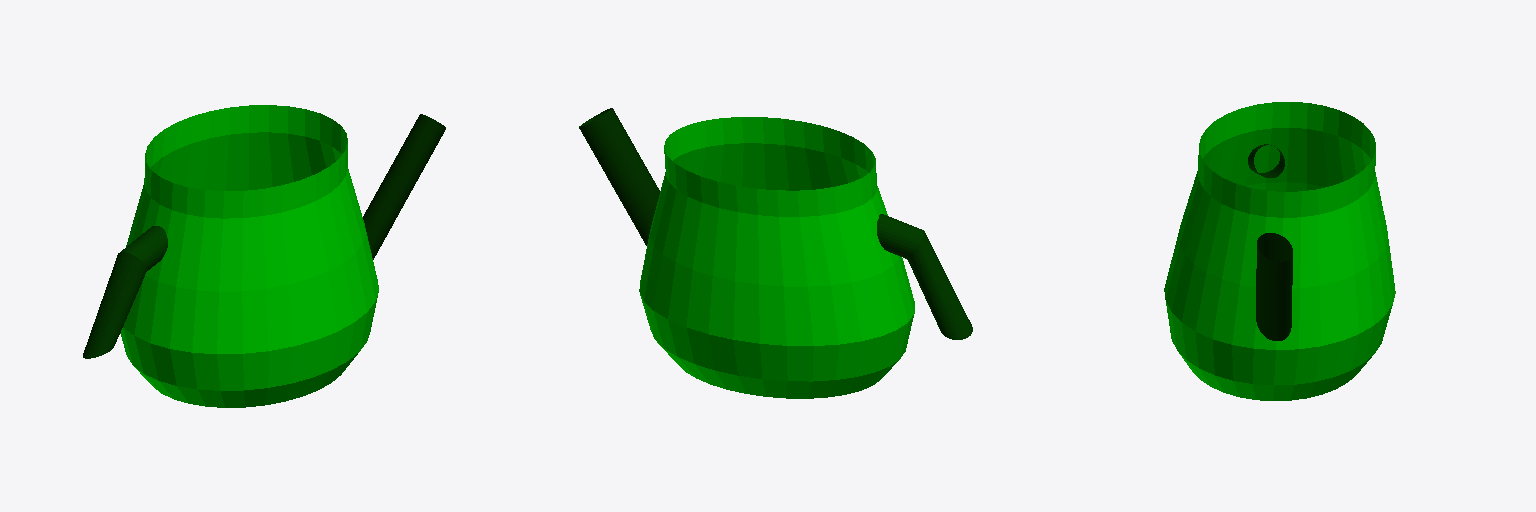
The model's file is wateringcan.obj.
The picture shows the model from 3 angles: view 1: azimuth 30°, elevation 25°; view 2: azimuth 150°, elevation 25°; view 3: azimuth 270°, elevation 25°; orthographic projection.
Visible parts, largest first — view 1: body.001, Circle.001, SurfCylinder; view 2: body.001, SurfCylinder, Circle.001; view 3: body.001, SurfCylinder.
Boxes of the visible parts, x1,y1,x2,y2 form: body.001: [120, 105, 378, 407]; Circle.001: [83, 226, 167, 358]; SurfCylinder: [363, 114, 445, 259]; body.001: [639, 117, 914, 398]; SurfCylinder: [579, 108, 659, 245]; Circle.001: [877, 214, 972, 339]; body.001: [1164, 102, 1395, 400]; SurfCylinder: [1256, 233, 1292, 340].
Size of the model in its own units: 4.96 by 2.76 by 2.66.